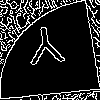Y: (24, 25, 67, 74)
